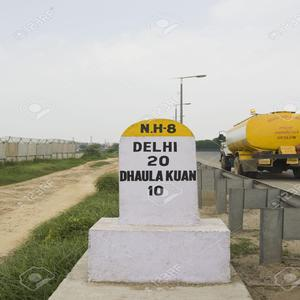kmstone: (113, 118, 200, 255)
